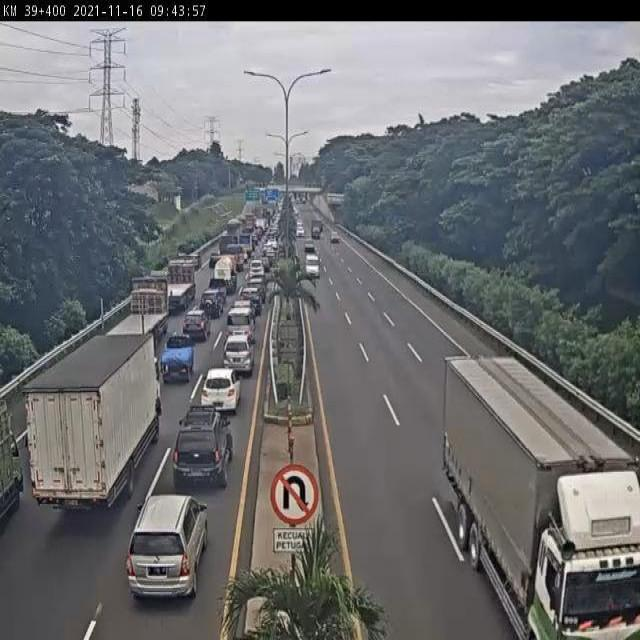car: (126, 492, 218, 607), (172, 412, 235, 497), (199, 368, 239, 421), (156, 333, 195, 387), (222, 335, 255, 380), (225, 308, 254, 348), (178, 312, 206, 345), (199, 291, 222, 321)
truck-l-: (445, 354, 640, 640), (89, 283, 163, 360), (151, 259, 193, 317)
truck-m-: (24, 332, 166, 516)
